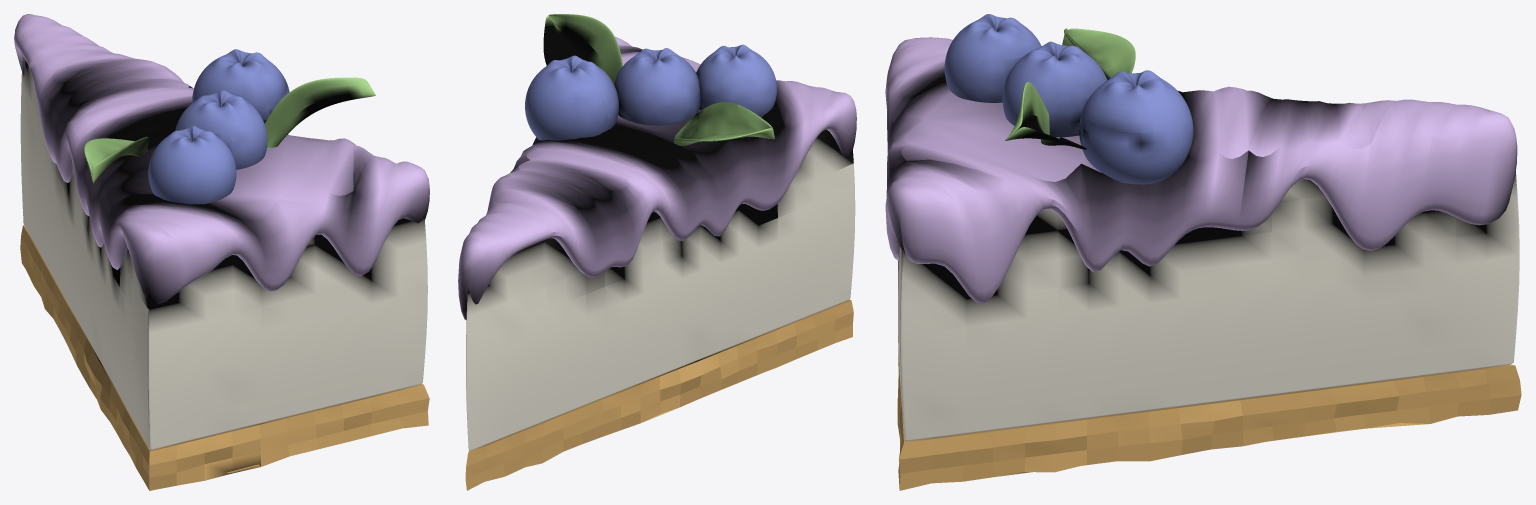
File: cheesecake.glb
The picture shows the model from 3 angles, left to right: view 1: azimuth 30°, elevation 25°; view 2: azimuth 150°, elevation 25°; view 3: azimuth 270°, elevation 25°; orthographic projection. The views are drawn at different scales.
Visible parts, largest first — view 1: Cheese, Icing, Crust, Blueberry001, Blueberry, Blueberry002, Leaf, Leaf001; view 2: Cheese, Icing, Crust, Blueberry002, Blueberry, Blueberry001, Leaf, Leaf001; view 3: Cheese, Icing, Crust, Blueberry002, Blueberry, Blueberry001, Leaf001, Leaf.
Boxes of the visible parts, left/top/right/bottom form: Cheese: left=20, top=60, right=427, bottom=449; Icing: left=14, top=14, right=429, bottom=303; Crust: left=20, top=225, right=429, bottom=490; Blueberry001: left=148, top=125, right=236, bottom=204; Blueberry: left=175, top=90, right=267, bottom=169; Blueberry002: left=192, top=49, right=289, bottom=123; Leaf: left=264, top=77, right=375, bottom=147; Leaf001: left=84, top=136, right=148, bottom=183; Cheese: left=466, top=129, right=855, bottom=450; Icing: left=458, top=36, right=856, bottom=320; Crust: left=465, top=300, right=853, bottom=490; Blueberry002: left=525, top=55, right=618, bottom=140; Blueberry: left=614, top=48, right=700, bottom=125; Blueberry001: left=696, top=44, right=776, bottom=117; Leaf: left=543, top=14, right=622, bottom=83; Leaf001: left=674, top=102, right=774, bottom=145; Cheese: left=898, top=171, right=1519, bottom=441; Icing: left=885, top=37, right=1517, bottom=303; Crust: left=897, top=336, right=1521, bottom=490; Blueberry002: left=1079, top=70, right=1193, bottom=184; Blueberry: left=1002, top=41, right=1107, bottom=137; Blueberry001: left=944, top=14, right=1041, bottom=102; Leaf001: left=1062, top=28, right=1135, bottom=80; Leaf: left=1005, top=82, right=1086, bottom=149.
Bounding box in the file's own units: 1.1 × 1.16 × 1.8.
